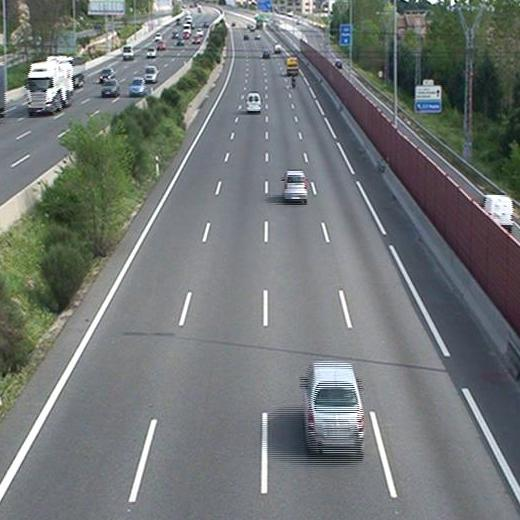car: (301, 363, 366, 456), (282, 171, 310, 201), (261, 49, 271, 59)
motorcycle: (290, 72, 297, 90)
small-truck: (284, 56, 300, 75)
van: (246, 92, 261, 112)
